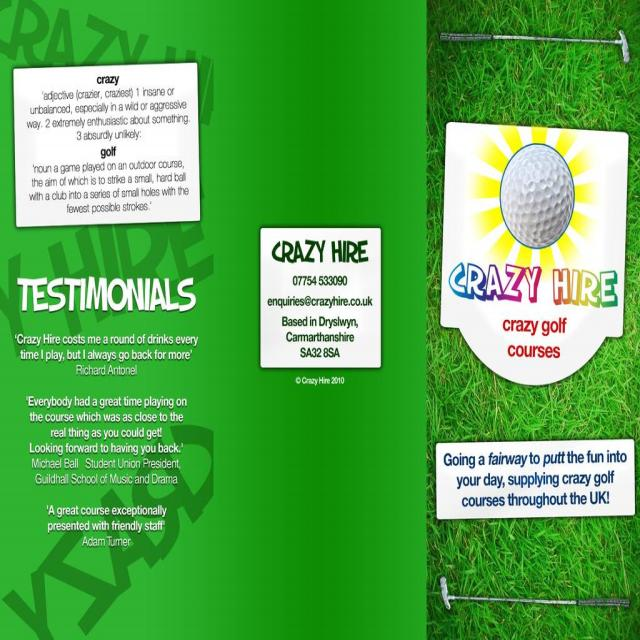golfball: (498, 142, 573, 250)
